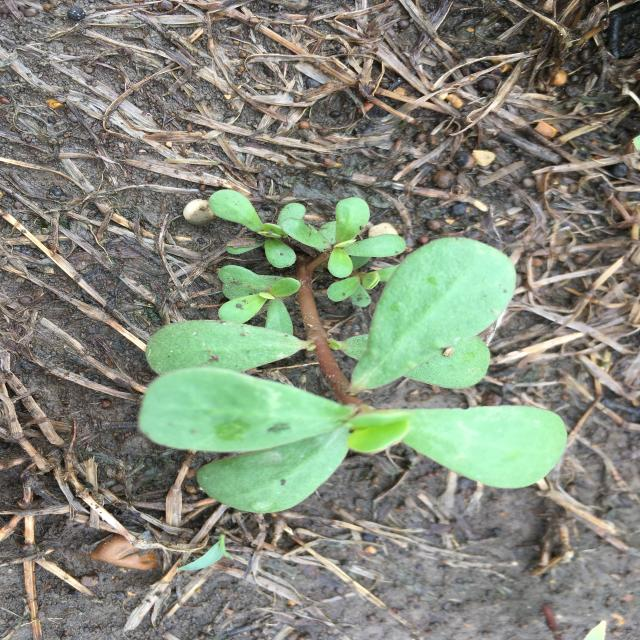Purslane: (138, 189, 568, 515)
